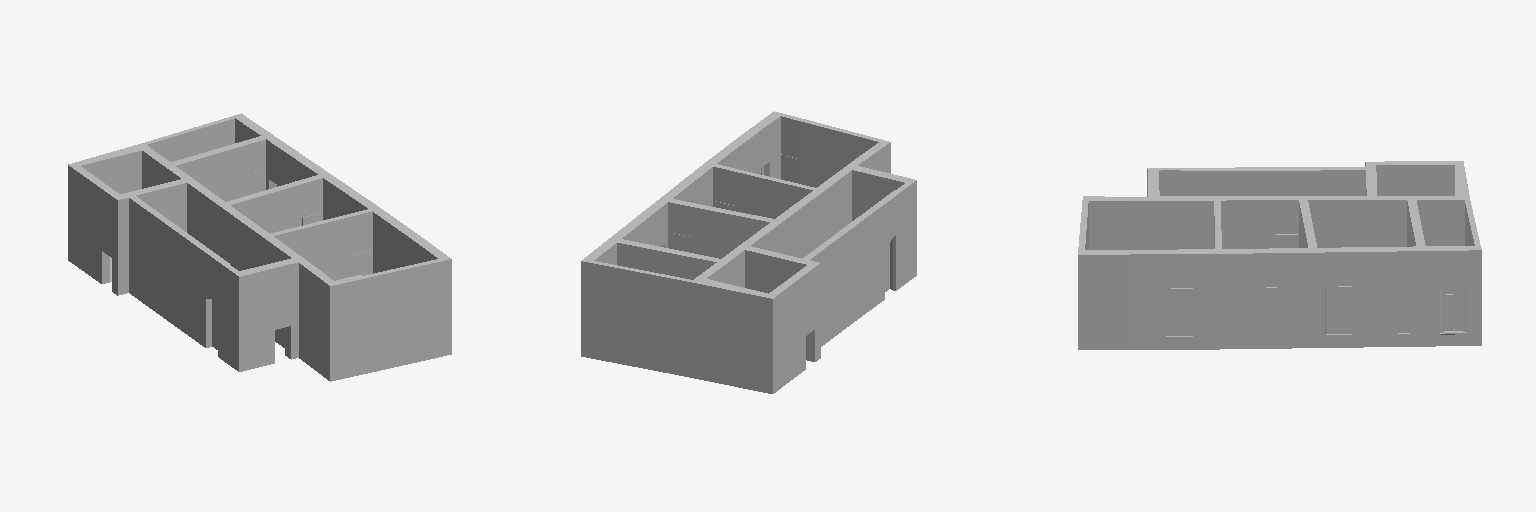
Rendered from modello 3d con freccia.obj.
The picture shows the model from 3 angles: view 1: azimuth 30°, elevation 25°; view 2: azimuth 150°, elevation 25°; view 3: azimuth 270°, elevation 25°; orthographic projection.
Parts seen in each view (by area): view 1: Mesh59 Componente_107 Model; view 2: Mesh59 Componente_107 Model; view 3: Mesh59 Componente_107 Model, Mesh80 Componente_109 Model, Mesh60 Componente_107 Model.
Boxes of the visible parts, <box> form: Mesh59 Componente_107 Model: <box>68,113,451,381</box>; Mesh59 Componente_107 Model: <box>581,111,916,393</box>; Mesh59 Componente_107 Model: <box>1078,161,1481,349</box>; Mesh80 Componente_109 Model: <box>1250,287,1276,348</box>; Mesh60 Componente_107 Model: <box>1325,286,1351,333</box>.
Size of the model in its own units: 1325 by 626 by 2396.